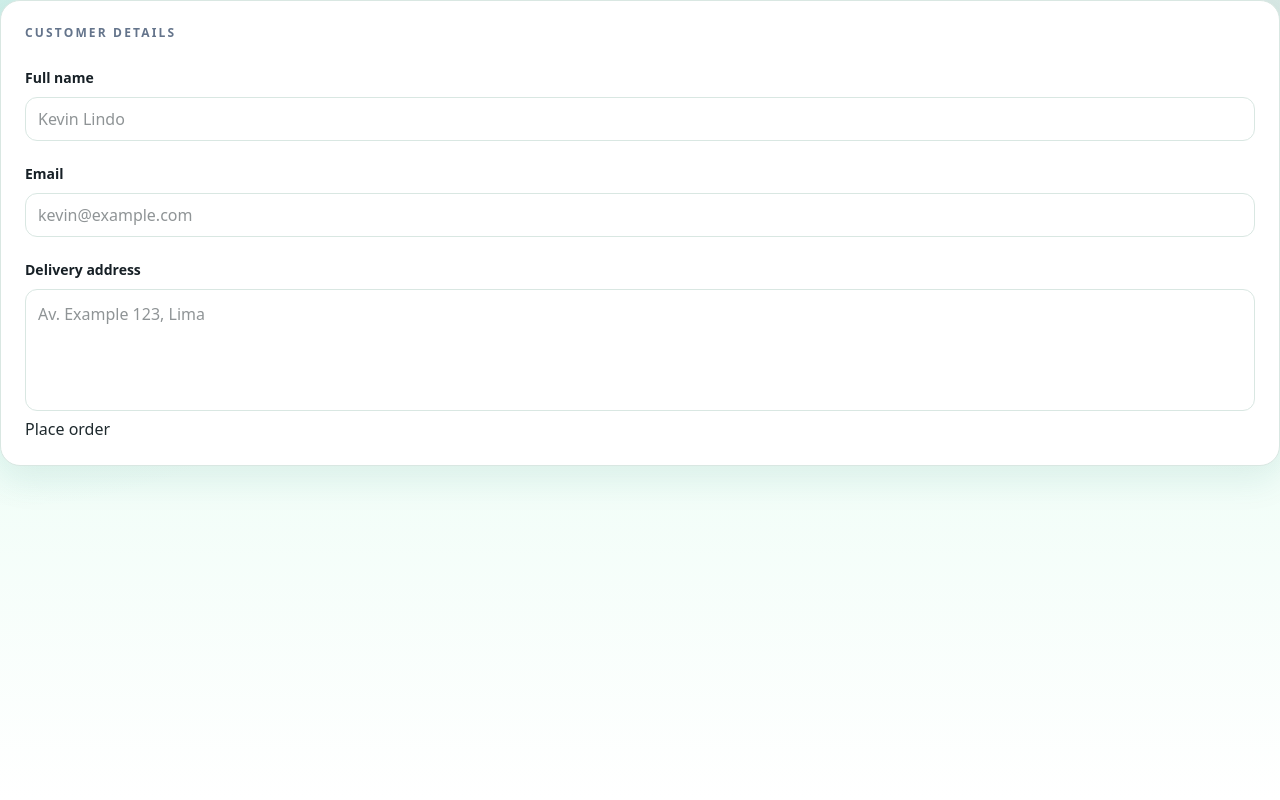
Test: CheckoutForm › should show an error when submitting empty fields
Step 1. Click the button "Place order" → x=68, y=429, box [25,417,110,441]
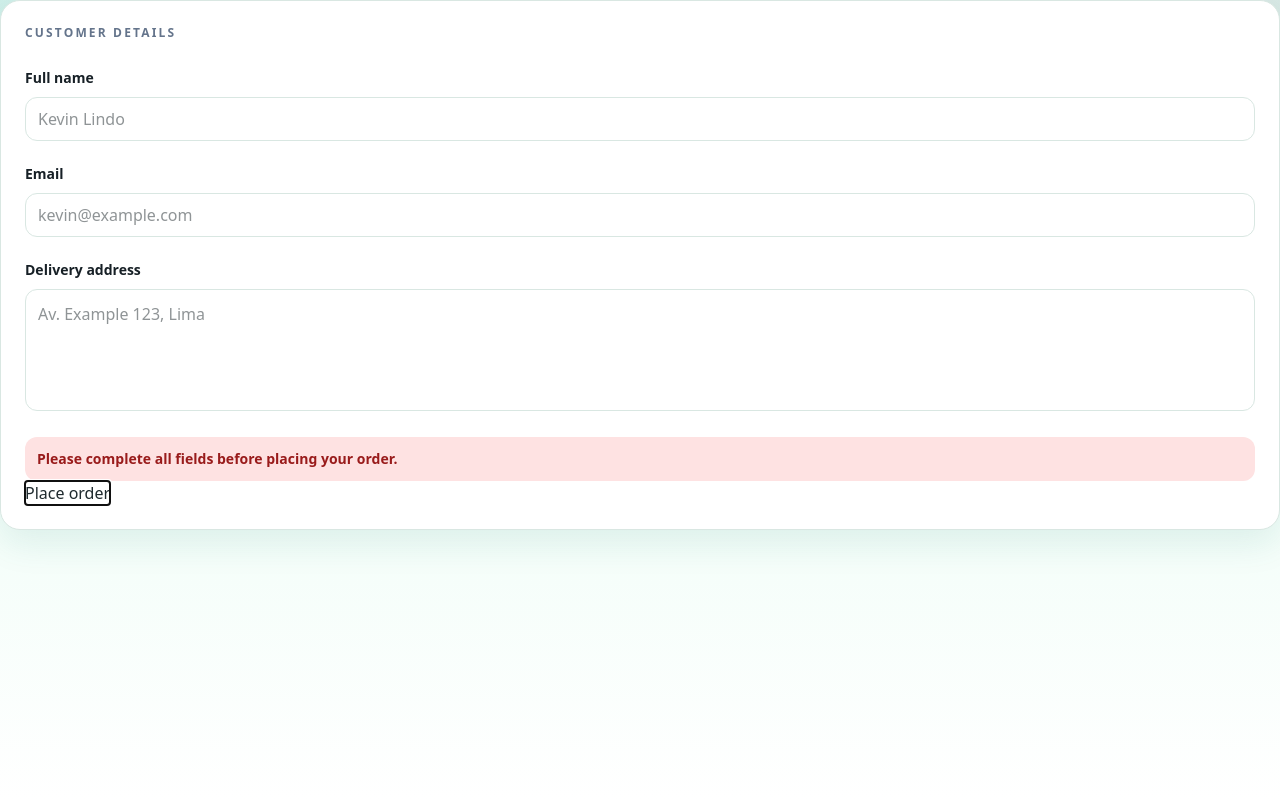
Expected: the text "Please complete all fields before placing your order." is shown, [25,437,1255,481]
